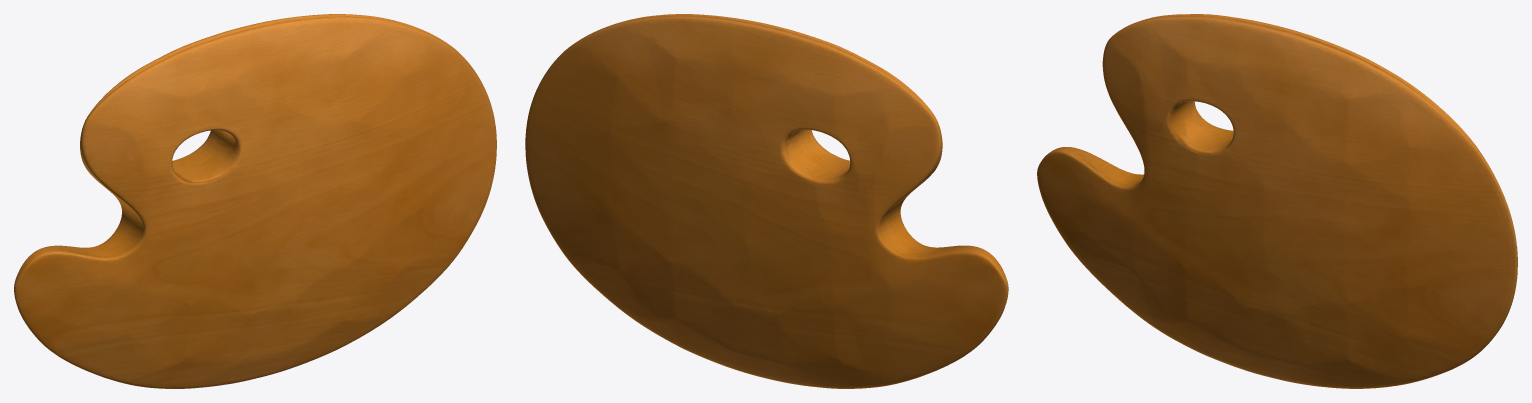
File: palette-board.glb
3 renders of one model, left to right at view 1: azimuth 30°, elevation 25°; view 2: azimuth 150°, elevation 25°; view 3: azimuth 330°, elevation 25°, orthographic.
Size of the model in its own units: 1.9 by 1.32 by 0.2299.
1 material, 1 textured.
